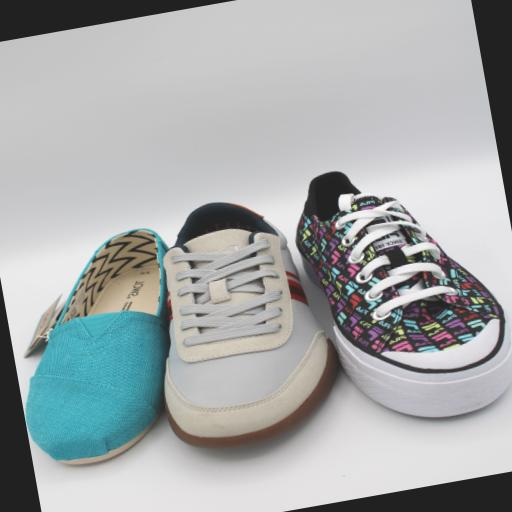shoe: (296, 172, 511, 417), (163, 203, 337, 448), (25, 229, 168, 464)
